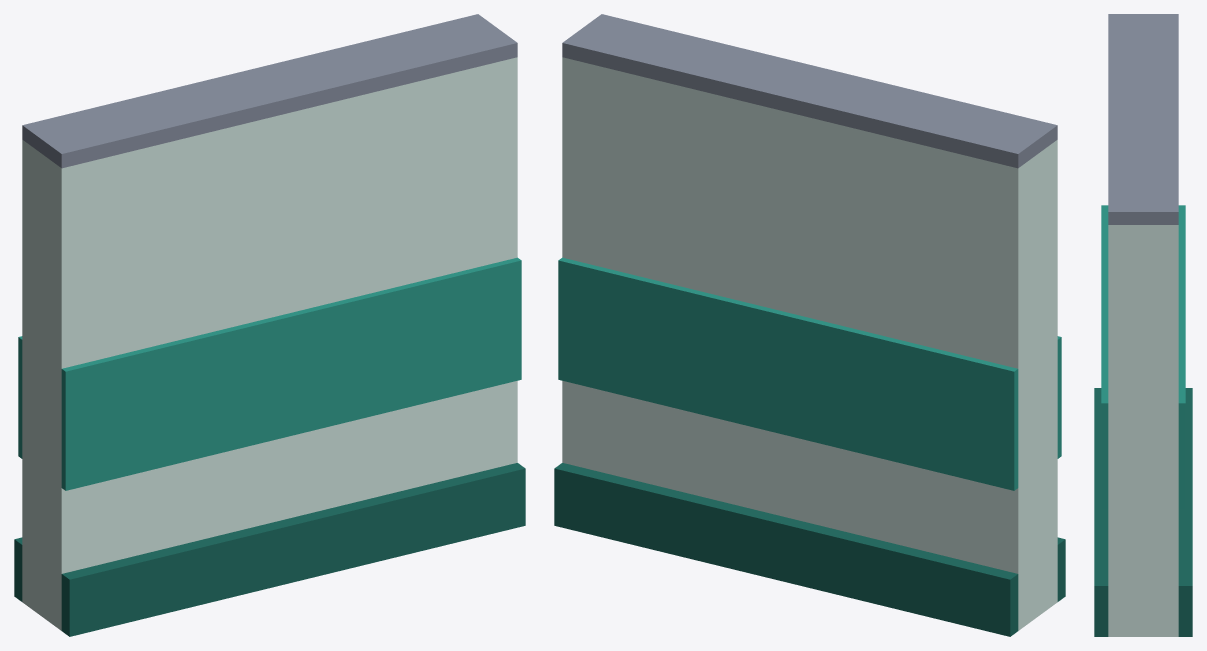
Rendered from partition-full.glb.
The picture shows the model from 3 angles, left to right: view 1: azimuth 30°, elevation 25°; view 2: azimuth 150°, elevation 25°; view 3: azimuth 270°, elevation 25°; orthographic projection. The views are drawn at different scales.
Parts seen in each view (by area): view 1: partition-full; view 2: partition-full; view 3: partition-full.
Boxes of the visible parts, box(x1,y1,x2,y2) form: partition-full: box(14, 14, 525, 636); partition-full: box(554, 14, 1065, 636); partition-full: box(1094, 14, 1192, 636).
Bounding box in the file's own units: 1 × 1 × 0.21.
1 material, 1 textured.
